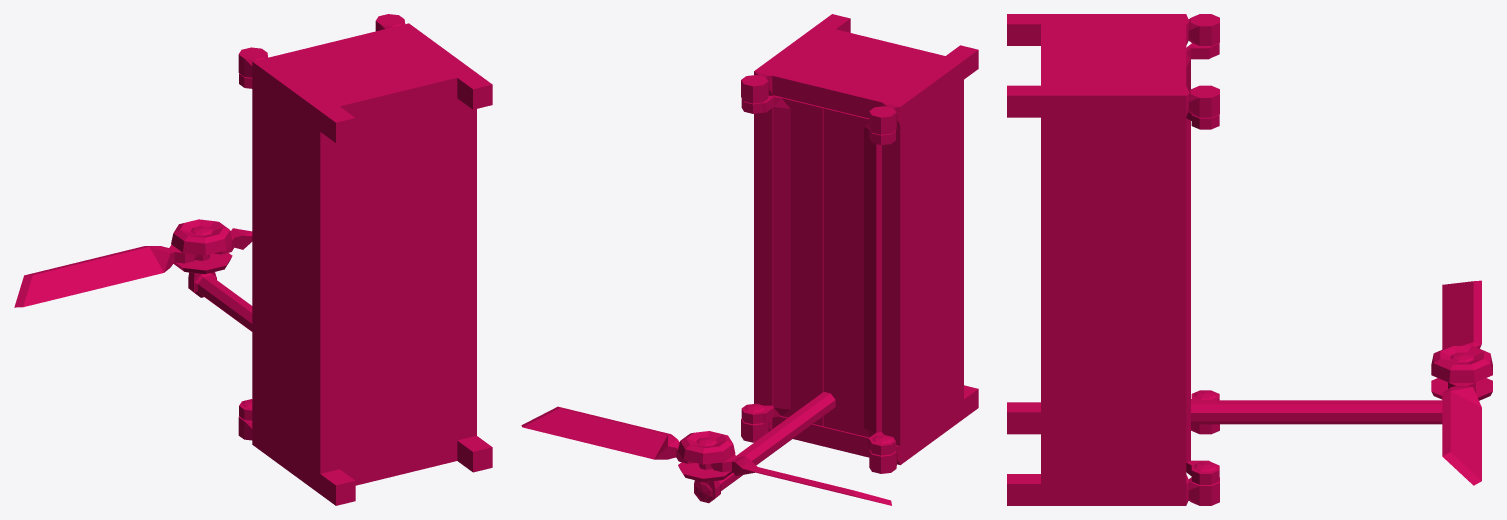
File: eolienne_eclipse.dae
3 renders of one model, left to right at view 1: azimuth 30°, elevation 25°; view 2: azimuth 150°, elevation 25°; view 3: azimuth 270°, elevation 25°, orthographic. The views are drawn at different scales.
Parts seen in each view (by area): view 1: box, wingL, rotor, pilar, tur; view 2: box, doortop, doordow, wingR, pilar, wingL, rotor, tur; view 3: box, pilar, wingR, doordow, wingL, rotor, tur, doortop.
Boxes of the visible parts, bbox=[...] form: box: bbox=[238, 14, 492, 505]; wingL: bbox=[14, 244, 197, 307]; rotor: bbox=[171, 219, 232, 263]; pilar: bbox=[194, 273, 252, 331]; tur: bbox=[173, 226, 232, 296]; box: bbox=[741, 14, 978, 473]; doortop: bbox=[823, 108, 895, 455]; doordow: bbox=[741, 95, 824, 425]; wingR: bbox=[521, 406, 694, 463]; pilar: bbox=[695, 392, 835, 501]; wingL: bbox=[711, 454, 891, 505]; rotor: bbox=[678, 431, 735, 472]; tur: bbox=[678, 437, 732, 503]; box: bbox=[1007, 14, 1219, 505]; pilar: bbox=[1191, 400, 1442, 424]; wingR: bbox=[1442, 382, 1481, 485]; doordow: bbox=[1186, 112, 1219, 484]; wingL: bbox=[1442, 280, 1481, 349]; rotor: bbox=[1431, 346, 1492, 382]; tur: bbox=[1431, 352, 1492, 400]; doortop: bbox=[1186, 43, 1219, 400].
Bounding box in the file's own units: 98.5 × 100 × 93.5.
